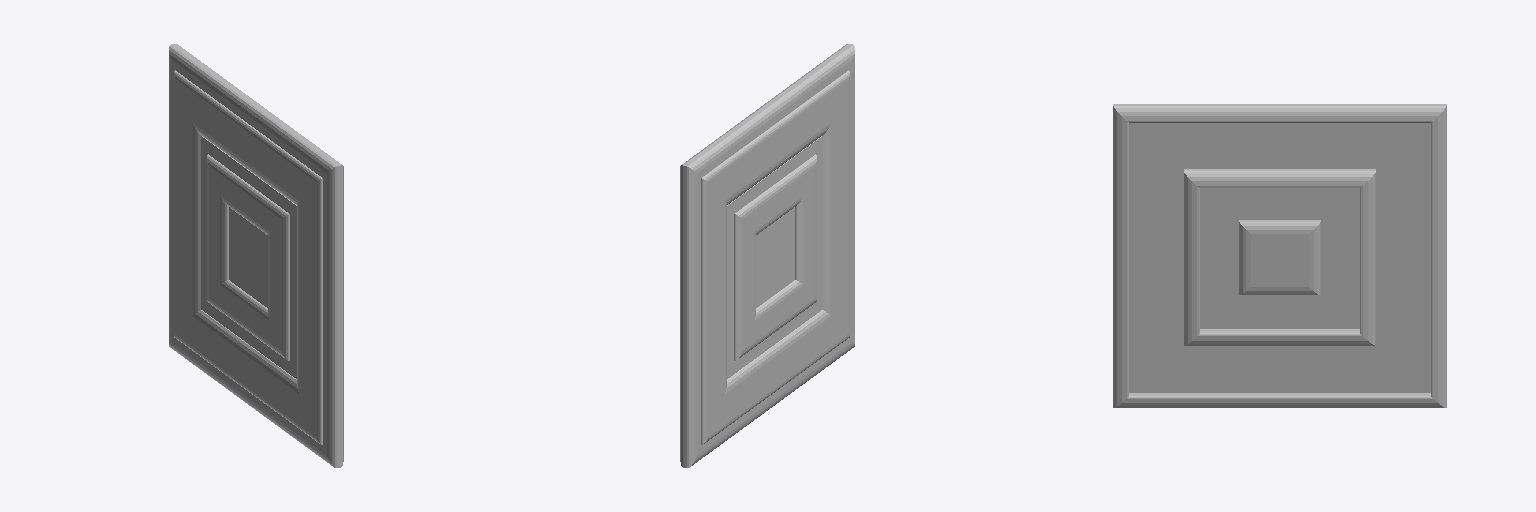
The model's file is coolsquare.obj.
The picture shows the model from 3 angles: view 1: azimuth 30°, elevation 25°; view 2: azimuth 150°, elevation 25°; view 3: azimuth 270°, elevation 25°; orthographic projection.
Visible parts, largest first — view 1: Cube_Cube.001; view 2: Cube_Cube.001; view 3: Cube_Cube.001.
Part boxes in pixels (x1,y1,x2,y2): Cube_Cube.001: (169, 44, 343, 467); Cube_Cube.001: (680, 44, 854, 467); Cube_Cube.001: (1113, 104, 1446, 407).
Size of the model in its own units: 0.1509 by 2 by 2.